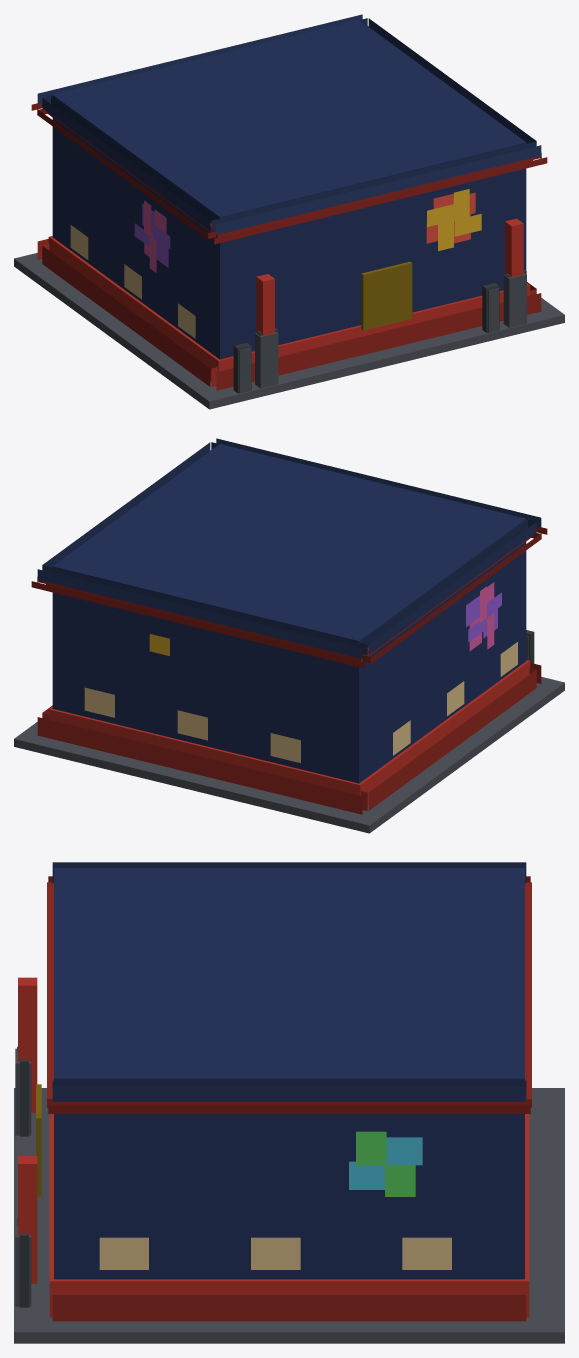
File: PuzzlePhoenixSil.fbx
3 renders of one model, top to bottom at view 1: azimuth 30°, elevation 25°; view 2: azimuth 150°, elevation 25°; view 3: azimuth 270°, elevation 25°, orthographic. The views are drawn at different scales.
Parts seen in each view (by area): view 1: FW_S_All; view 2: FW_S_All; view 3: FW_S_All.
Boxes of the visible parts, left/top/right/bottom form: FW_S_All: left=14, top=14, right=564, bottom=409; FW_S_All: left=14, top=438, right=564, bottom=833; FW_S_All: left=14, top=862, right=564, bottom=1343.
Size of the model in its own units: 42.04 by 19.9 by 40.04.
